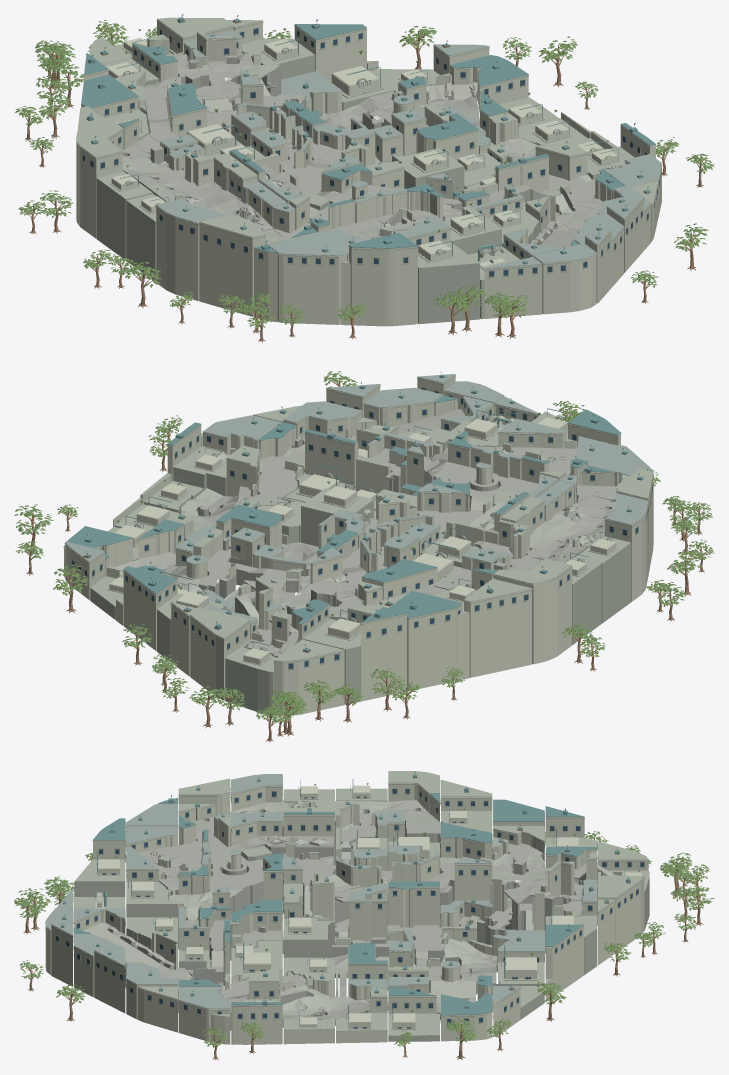
Rendered from overpass.glb.
3 renders of one model, top to bottom at view 1: azimuth 30°, elevation 25°; view 2: azimuth 150°, elevation 25°; view 3: azimuth 270°, elevation 25°, orthographic. The views are drawn at different scales.
Visible parts, largest first — view 1: ARENA_lower_wall, ARENA_lower_stone, ARENA_lower_paving, ARENA_lower_roof, ARENA_lower_metal, ARENA_lower_leaf, ARENA_lower_bark, ARENA_lower_glass; view 2: ARENA_lower_wall, ARENA_lower_stone, ARENA_lower_paving, ARENA_lower_roof, ARENA_lower_metal, ARENA_lower_leaf, ARENA_lower_bark, ARENA_lower_glass; view 3: ARENA_lower_wall, ARENA_lower_paving, ARENA_lower_stone, ARENA_lower_roof, ARENA_lower_metal, ARENA_lower_leaf, ARENA_lower_glass, ARENA_lower_bark.
Boxes of the visible parts, <box> form: ARENA_lower_wall: <box>76,19,661,326</box>; ARENA_lower_stone: <box>76,17,662,324</box>; ARENA_lower_paving: <box>123,52,618,247</box>; ARENA_lower_roof: <box>156,30,661,268</box>; ARENA_lower_metal: <box>81,14,655,264</box>; ARENA_lower_leaf: <box>15,20,714,328</box>; ARENA_lower_bark: <box>24,26,704,342</box>; ARENA_lower_glass: <box>83,28,661,276</box>; ARENA_lower_wall: <box>64,375,653,716</box>; ARENA_lower_stone: <box>63,375,653,714</box>; ARENA_lower_paving: <box>113,409,616,657</box>; ARENA_lower_roof: <box>65,374,651,624</box>; ARENA_lower_metal: <box>63,371,653,651</box>; ARENA_lower_leaf: <box>14,371,714,722</box>; ARENA_lower_bark: <box>23,377,708,742</box>; ARENA_lower_glass: <box>72,388,653,668</box>; ARENA_lower_wall: <box>45,783,648,1044</box>; ARENA_lower_paving: <box>83,799,618,1030</box>; ARENA_lower_stone: <box>45,771,649,1041</box>; ARENA_lower_roof: <box>45,774,597,1008</box>; ARENA_lower_metal: <box>60,772,630,1028</box>; ARENA_lower_leaf: <box>14,783,714,1047</box>; ARENA_lower_glass: <box>45,789,644,1028</box>; ARENA_lower_bark: <box>22,831,706,1060</box>.
Size of what is drawn, in the model's own units: 70.07 by 10.65 by 82.91.
